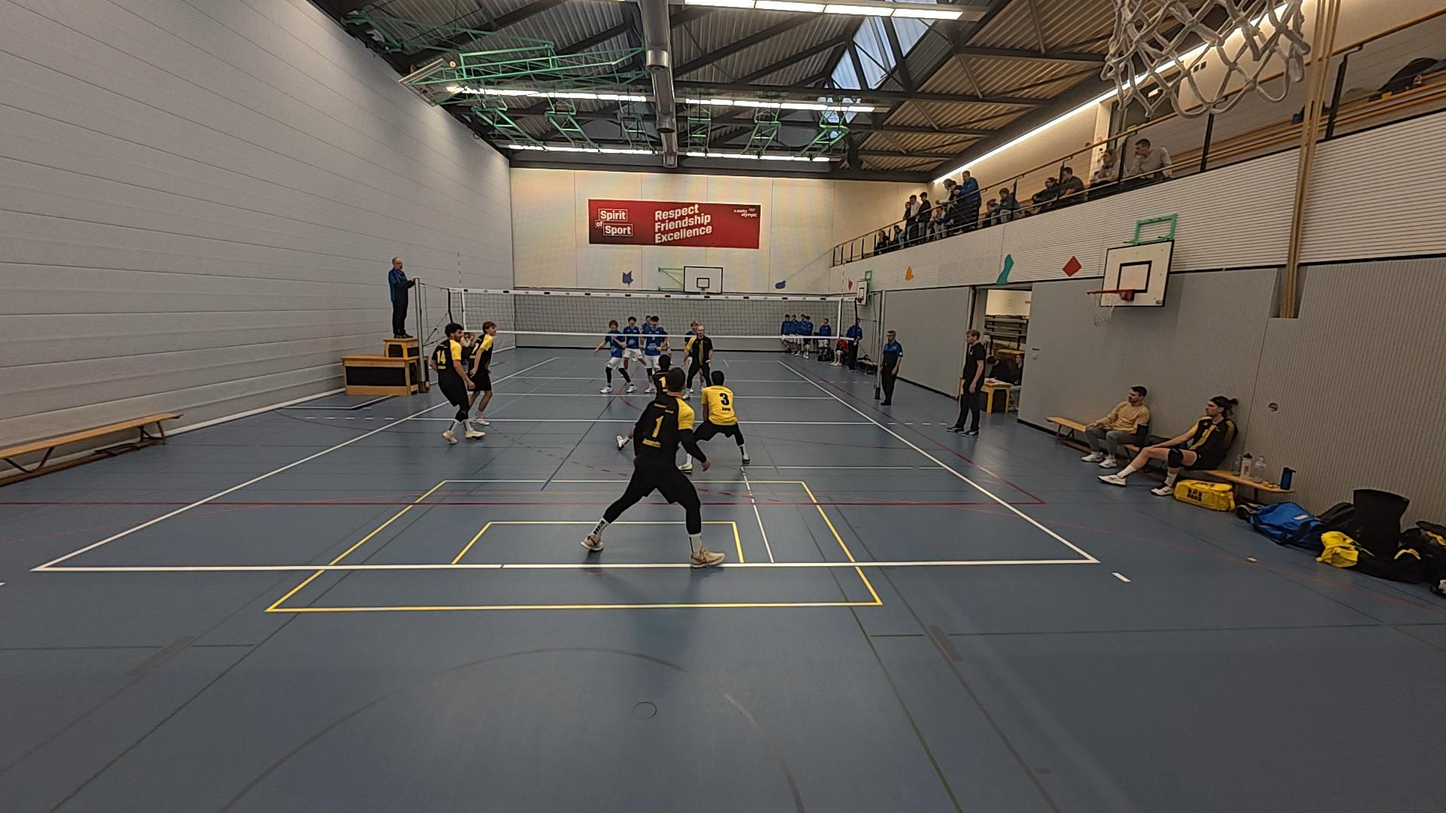Player: (583, 370, 720, 567), (616, 366, 714, 472), (435, 322, 482, 444), (465, 320, 497, 429), (595, 318, 634, 395), (684, 321, 726, 390), (619, 315, 647, 375), (643, 315, 670, 376)
Receive: (682, 373, 750, 470)
ball: (902, 265, 916, 280)
